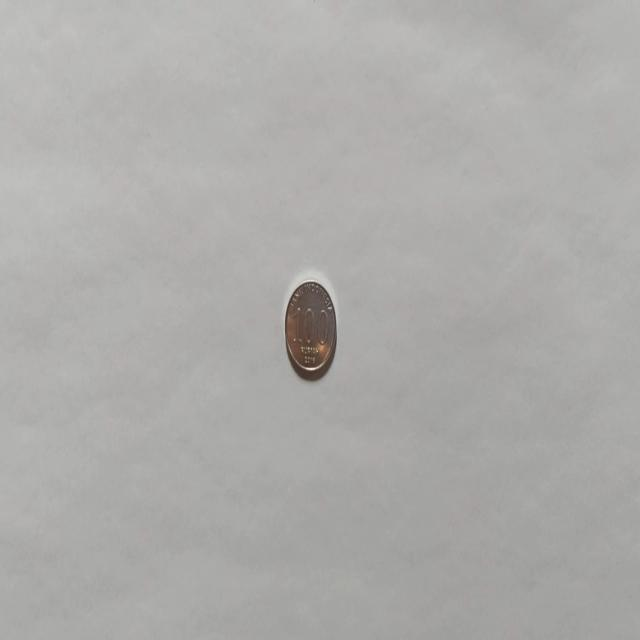seratus rupiah: (283, 278, 337, 380)
